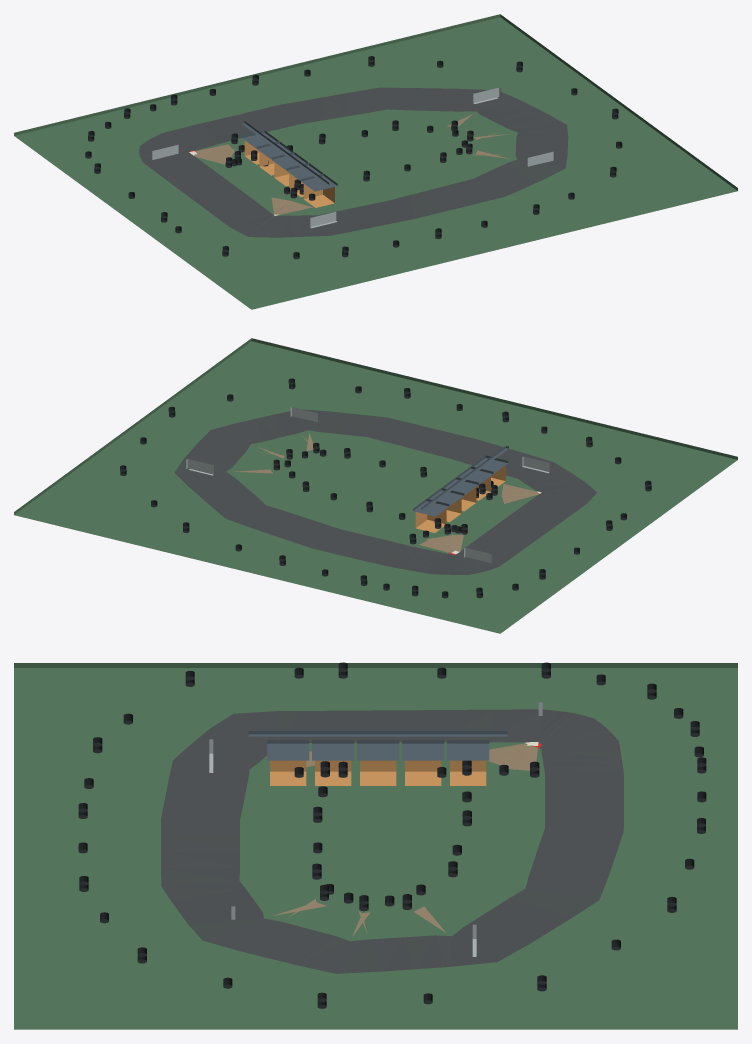
Rendered from turboFormulaCircuit.glb.
3 renders of one model, top to bottom at view 1: azimuth 30°, elevation 25°; view 2: azimuth 150°, elevation 25°; view 3: azimuth 270°, elevation 25°, orthographic. The views are drawn at different scales.
Visible parts, largest first — view 1: Turbo Formula Venue — continuous wide asphalt, kerbs and ven; view 2: Turbo Formula Venue — continuous wide asphalt, kerbs and ven; view 3: Turbo Formula Venue — continuous wide asphalt, kerbs and ven.
Part boxes in pixels (bbox=[...]): Turbo Formula Venue — continuous wide asphalt, kerbs and ven: bbox=[14, 14, 737, 309]; Turbo Formula Venue — continuous wide asphalt, kerbs and ven: bbox=[14, 338, 737, 633]; Turbo Formula Venue — continuous wide asphalt, kerbs and ven: bbox=[14, 662, 737, 1029].
Bounding box in the file's own units: 39 × 2.5 × 33.
